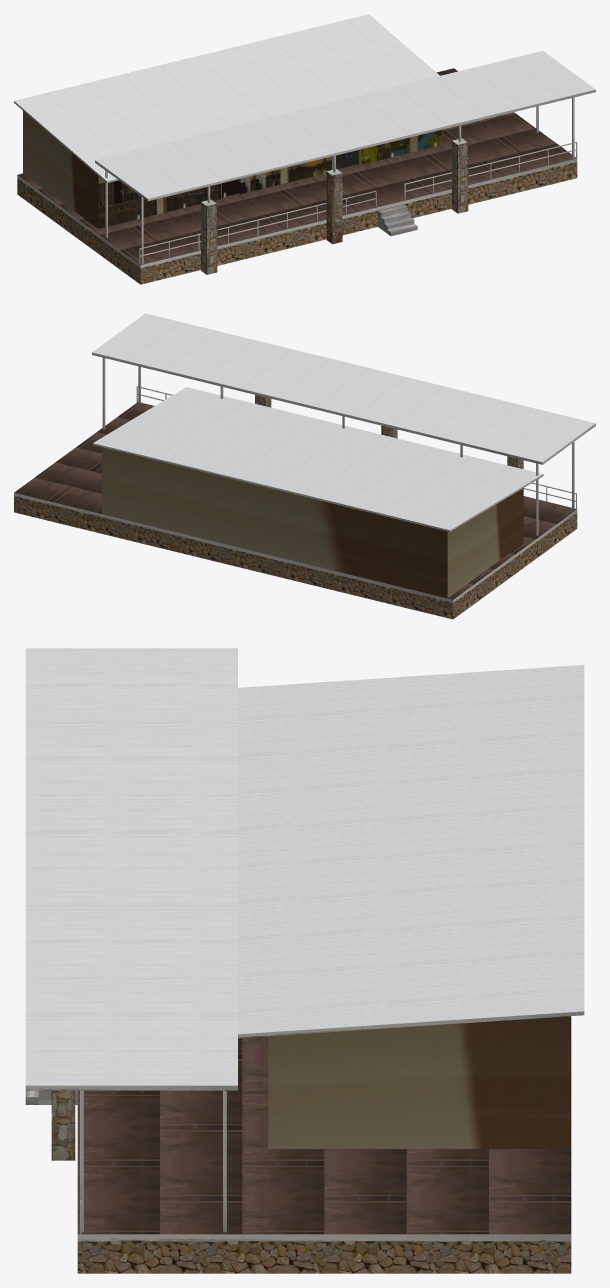
File: v6-escuela.glb
The picture shows the model from 3 angles, top to bottom: view 1: azimuth 30°, elevation 25°; view 2: azimuth 150°, elevation 25°; view 3: azimuth 270°, elevation 25°; orthographic projection. The views are drawn at different scales.
Visible parts, largest first — view 1: v6-escuela; view 2: v6-escuela; view 3: v6-escuela.
Boxes of the visible parts, bbox=[...] form: v6-escuela: bbox=[14, 14, 595, 284]; v6-escuela: bbox=[14, 313, 595, 619]; v6-escuela: bbox=[25, 648, 584, 1273].
Size of the model in its own units: 23.9 by 4.93 by 12.9.
3 materials, 3 textured.
